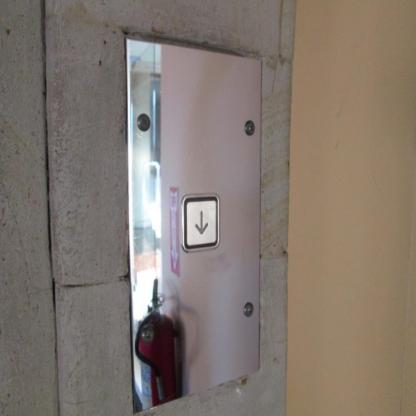down: (179, 192, 220, 253)
